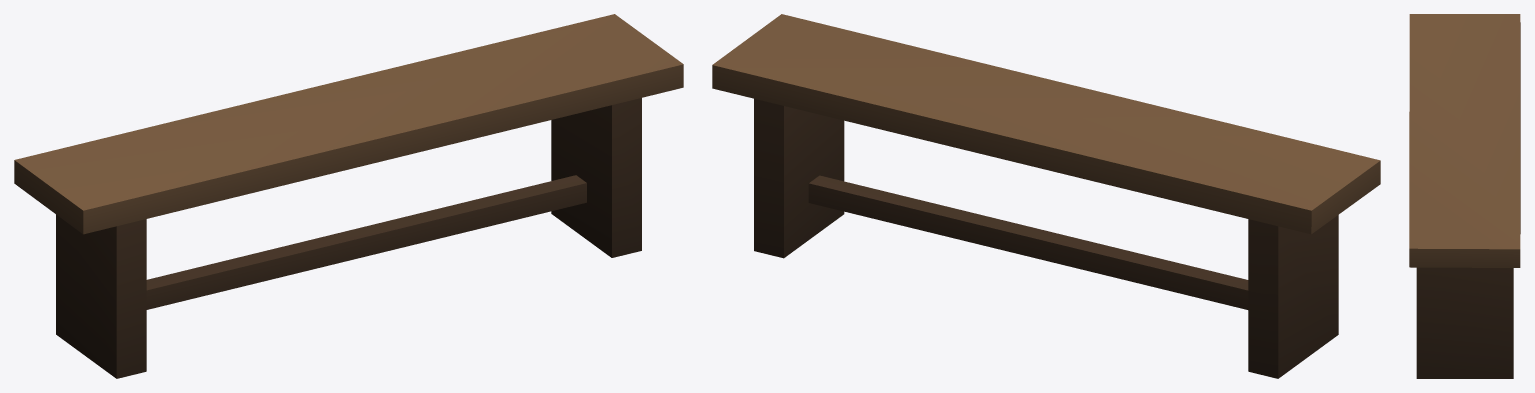
Rendered from ph_int_surgery_bench.glb.
The picture shows the model from 3 angles, left to right: view 1: azimuth 30°, elevation 25°; view 2: azimuth 150°, elevation 25°; view 3: azimuth 270°, elevation 25°; orthographic projection. The views are drawn at different scales.
Visible parts, largest first — view 1: ph_int_surgery_bench; view 2: ph_int_surgery_bench; view 3: ph_int_surgery_bench.
Boxes of the visible parts, x1,y1,x2,y2 form: ph_int_surgery_bench: (14,14,683,378); ph_int_surgery_bench: (712,14,1380,378); ph_int_surgery_bench: (1409,14,1520,378).
Size of the model in its own units: 1.6 by 0.4604 by 0.3208.
